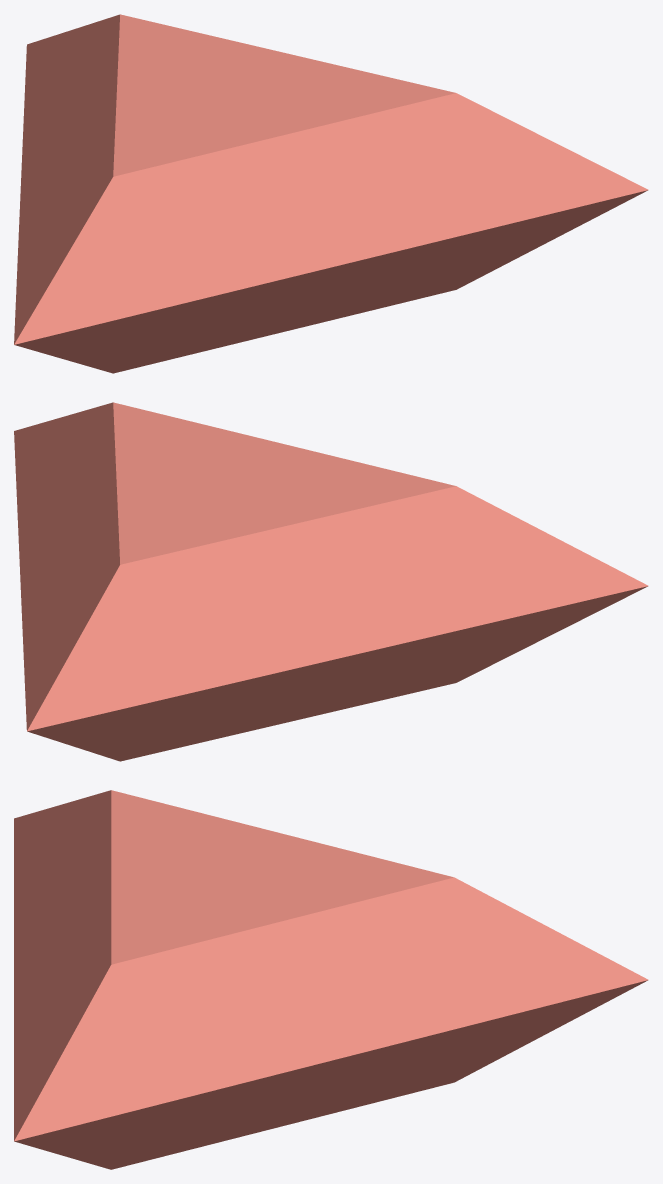
The model's file is GemAttack.fbx.
3 renders of one model, top to bottom at view 1: azimuth 30°, elevation 25°; view 2: azimuth 150°, elevation 25°; view 3: azimuth 270°, elevation 25°, orthographic. The views are drawn at different scales.
Parts seen in each view (by area): view 1: GemAttack.001; view 2: GemAttack.001; view 3: GemAttack.001.
Boxes of the visible parts, box(x1,y1,x2,y2) form: GemAttack.001: box(14, 14, 648, 373); GemAttack.001: box(14, 402, 648, 761); GemAttack.001: box(14, 790, 648, 1169).
Bounding box in the file's own units: 36.75 × 10.88 × 30.54.
